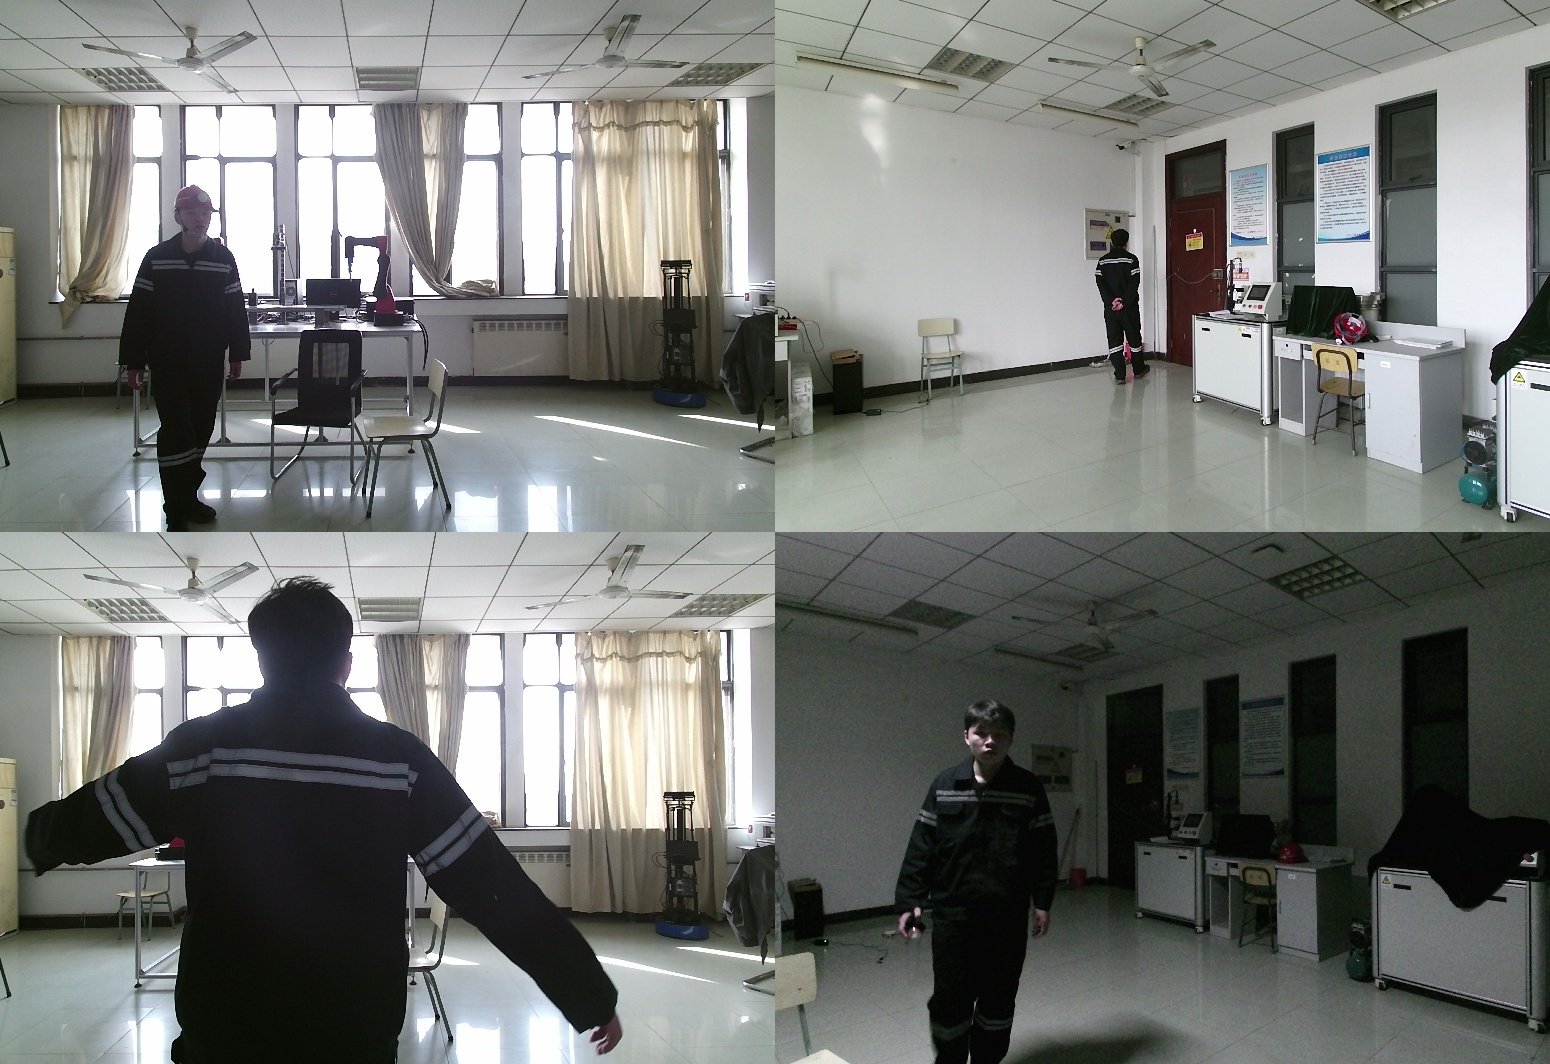person: (28, 583, 618, 1064), (897, 703, 1072, 1064), (121, 187, 251, 532), (1091, 228, 1150, 384)
